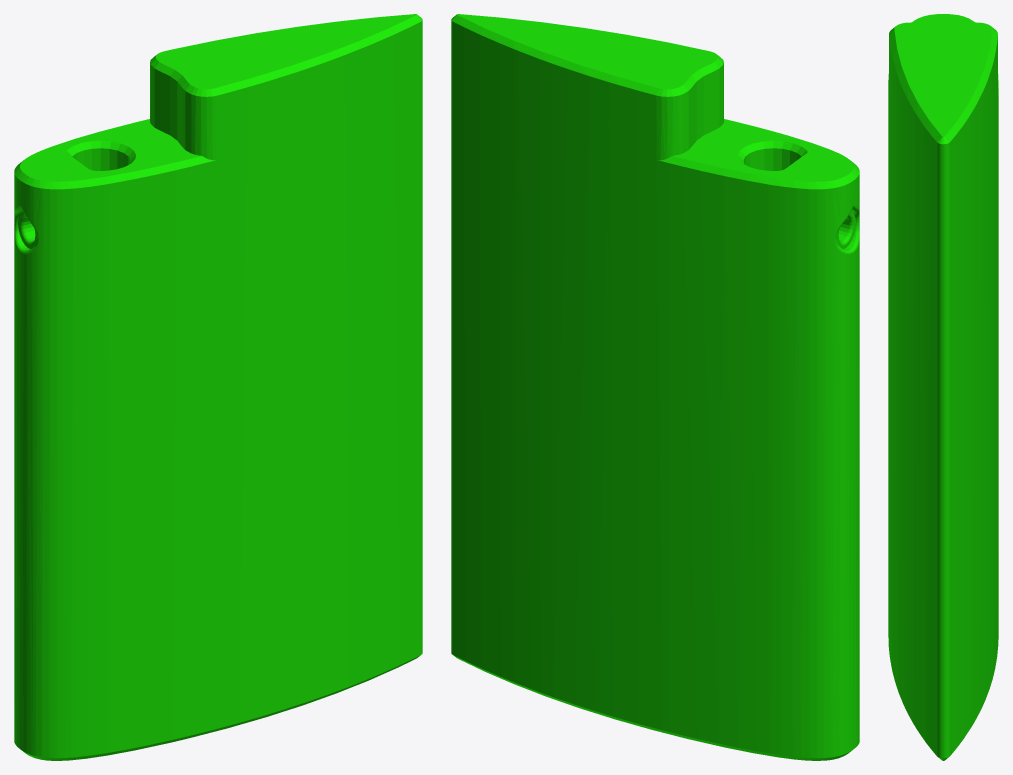
File: rudder.dae
3 views of the same model, side by side, from view 1: azimuth 30°, elevation 25°; view 2: azimuth 150°, elevation 25°; view 3: azimuth 270°, elevation 25° (orthographic). The views are drawn at different scales.
Parts seen in each view (by area): view 1: Rudder; view 2: Rudder; view 3: Rudder.
Part boxes in pixels (x1=…): Rudder: x1=14, y1=14, x2=422, y2=760; Rudder: x1=451, y1=14, x2=859, y2=760; Rudder: x1=888, y1=14, x2=998, y2=760.
Bounding box in the file's own units: 0.0653 × 0.016 × 0.1.
